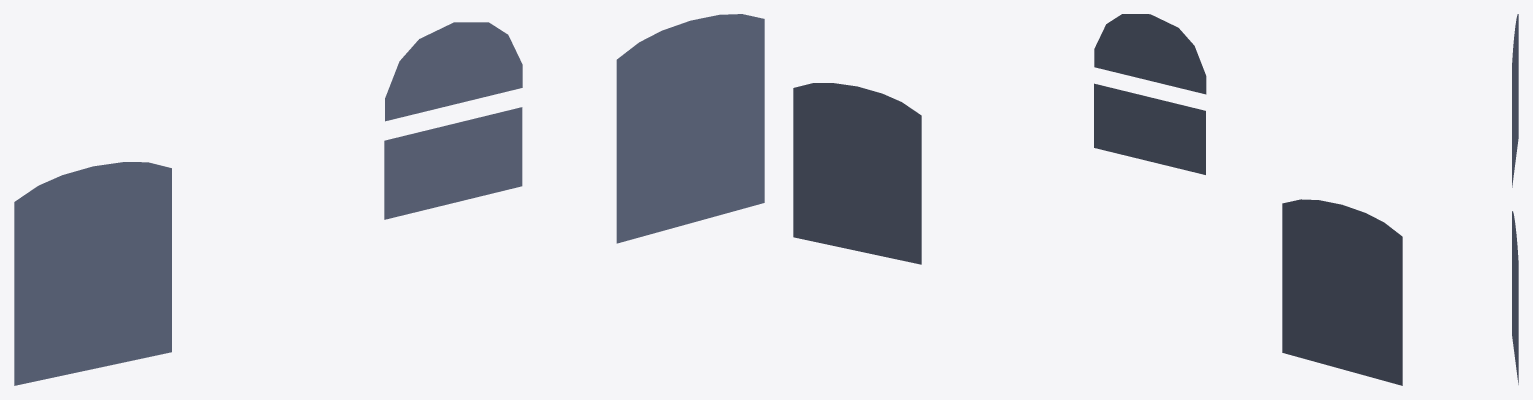
File: fbx_facility_building_04.FBX
3 renders of one model, left to right at view 1: azimuth 30°, elevation 25°; view 2: azimuth 150°, elevation 25°; view 3: azimuth 270°, elevation 25°, orthographic. The views are drawn at different scales.
Visible parts, largest first — view 1: facility_building_04; view 2: facility_building_04; view 3: facility_building_04.
Boxes of the visible parts, x1,y1,x2,y2 form: facility_building_04: (14,14,764,385); facility_building_04: (793,14,1402,385); facility_building_04: (1512,14,1518,384).
Bounding box in the file's own units: 51.55 × 20.95 × 7.67.
